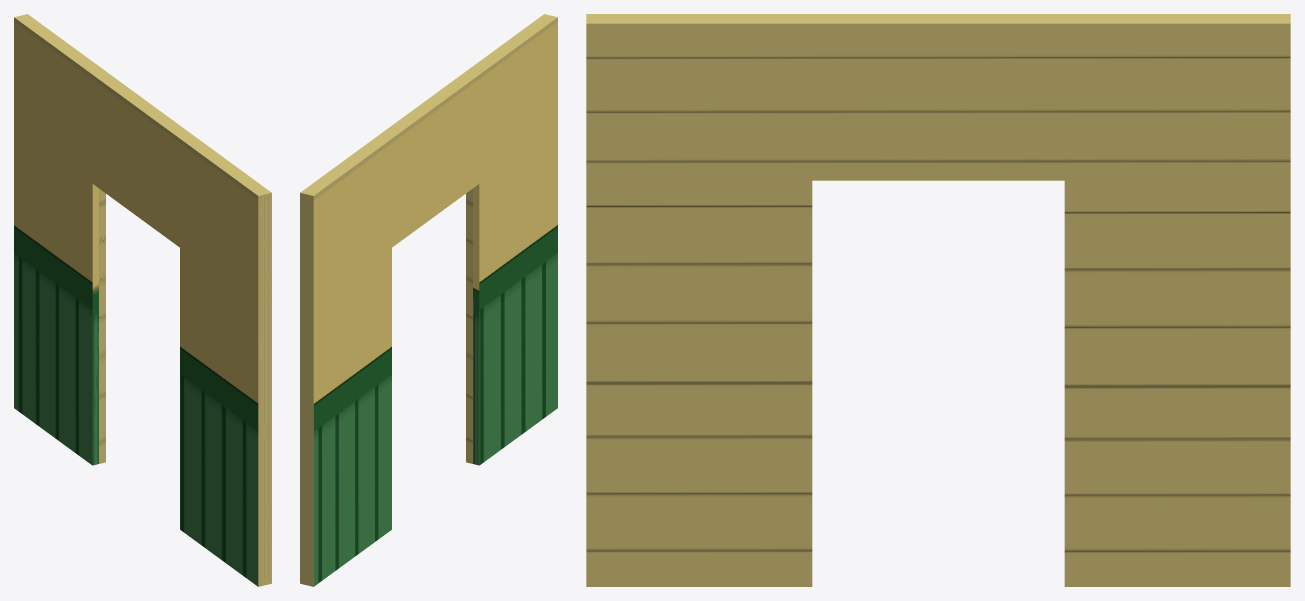
File: SM_ParedConPuerta.fbx
3 views of the same model, side by side, from view 1: azimuth 30°, elevation 25°; view 2: azimuth 150°, elevation 25°; view 3: azimuth 270°, elevation 25° (orthographic). The views are drawn at different scales.
Visible parts, largest first — view 1: Pared con puerta; view 2: Pared con puerta; view 3: Pared con puerta.
Boxes of the visible parts, left/top/right/bottom form: Pared con puerta: left=14, top=14, right=271, bottom=586; Pared con puerta: left=300, top=14, right=557, bottom=586; Pared con puerta: left=586, top=14, right=1290, bottom=586.
Size of the model in its own units: 11.27 by 311 by 353.
